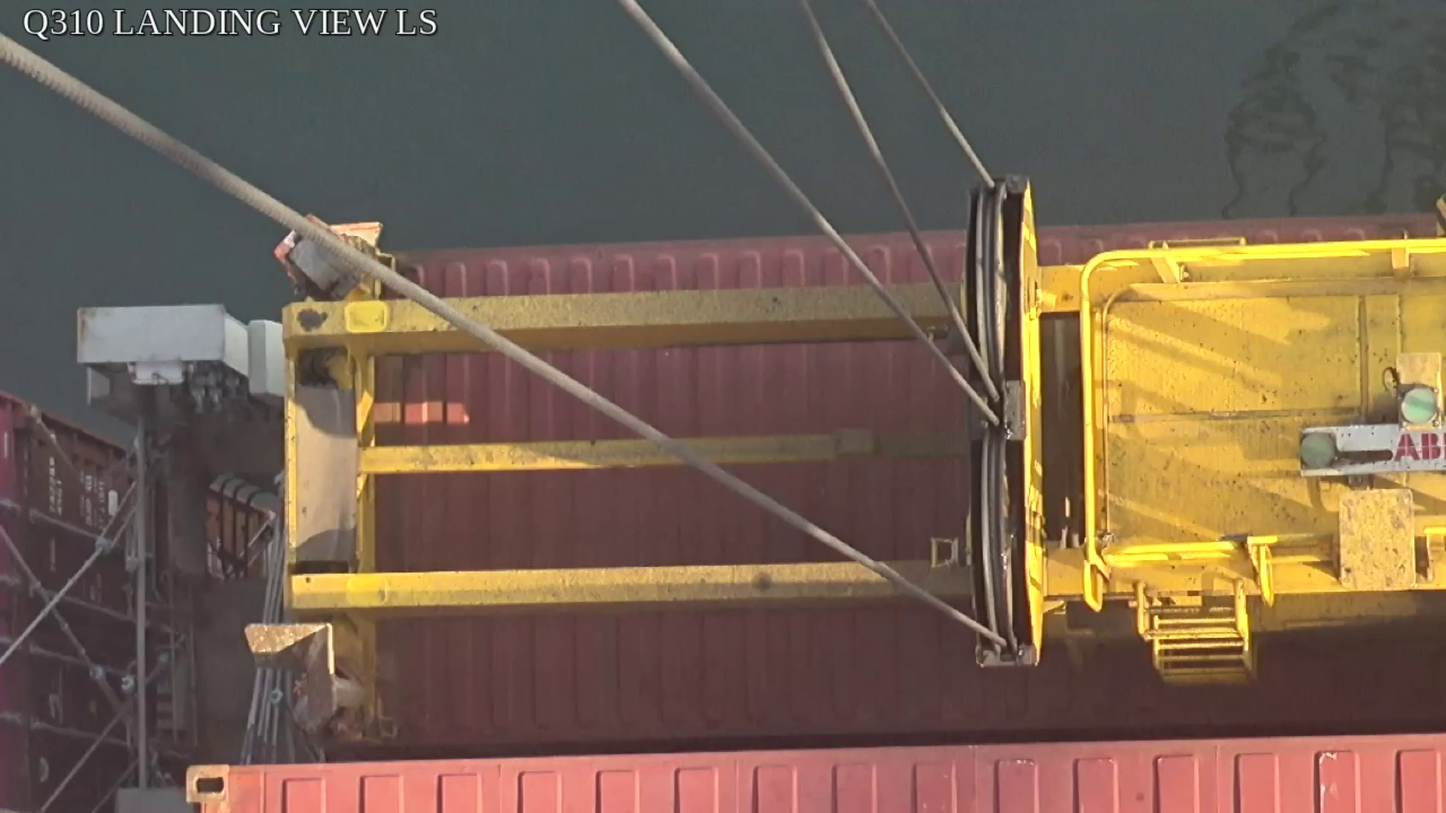left_gear: (959, 173, 1046, 665)
